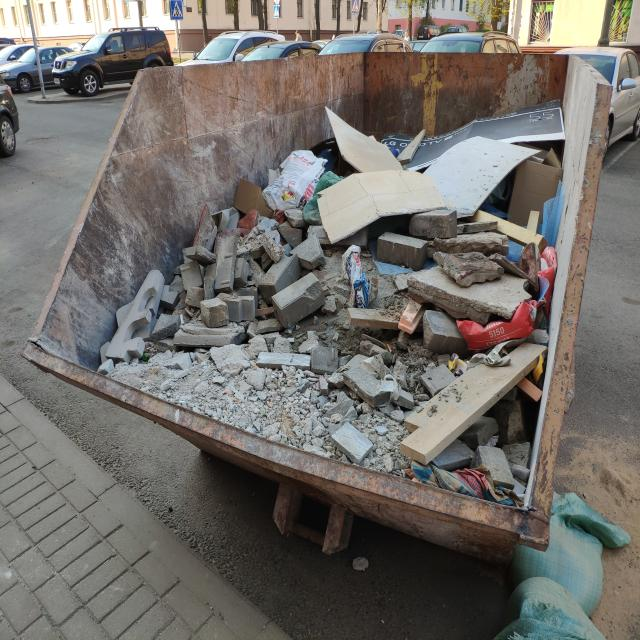entulho: (317, 96, 448, 241), (500, 491, 627, 640), (395, 358, 549, 472), (414, 135, 543, 219), (396, 293, 548, 354), (433, 100, 565, 156), (254, 222, 331, 310), (102, 268, 170, 367), (402, 456, 524, 510), (258, 149, 345, 211), (504, 148, 562, 233), (511, 238, 560, 303), (609, 78, 640, 150), (338, 245, 372, 309), (173, 321, 240, 346)
